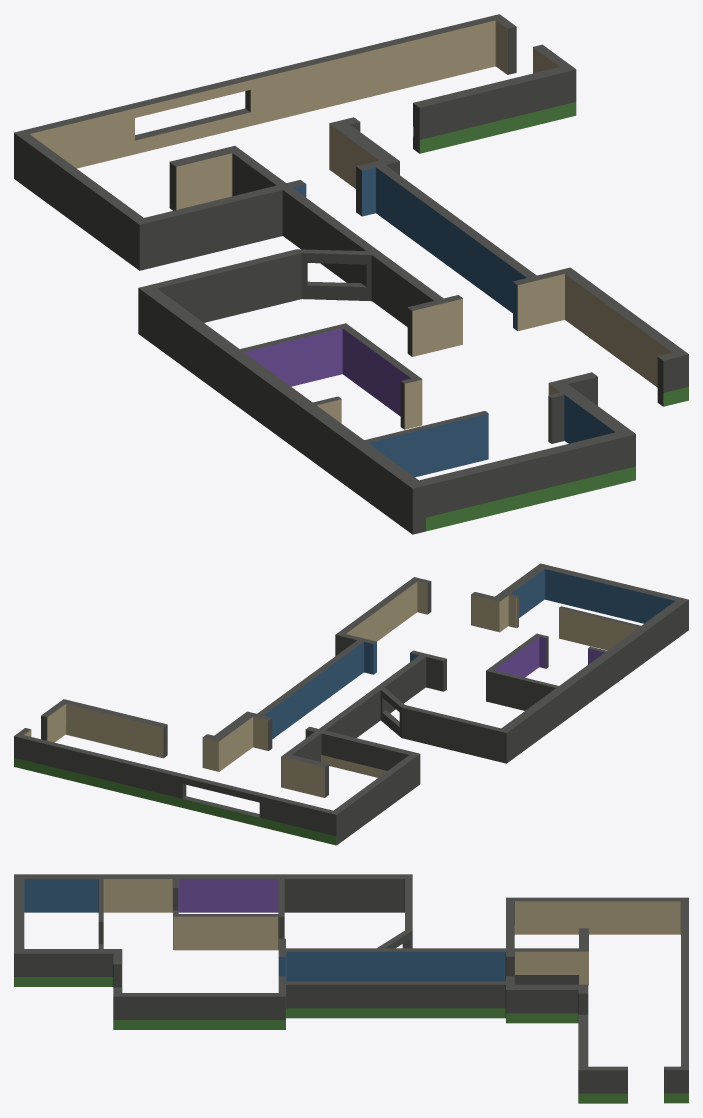
Rendered from electrical.fbx.
3 views of the same model, one above another, from view 1: azimuth 30°, elevation 25°; view 2: azimuth 150°, elevation 25°; view 3: azimuth 270°, elevation 25° (orthographic). The views are drawn at different scales.
Visible parts, largest first — view 1: Electrical; view 2: Electrical; view 3: Electrical.
Part boxes in pixels (<box>): Electrical: <box>14,14,688,534</box>; Electrical: <box>14,563,688,845</box>; Electrical: <box>14,874,688,1103</box>.
Bounding box in the file's own units: 3769 × 300 × 5491.
